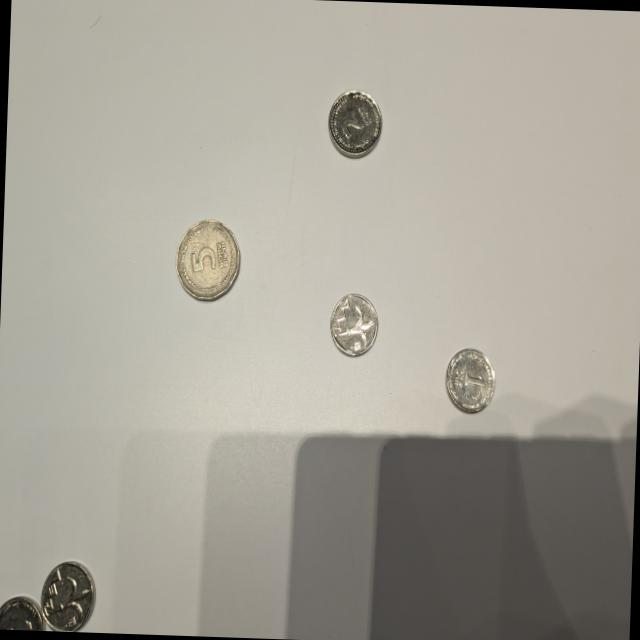1-shekel: (41, 558, 96, 631), (441, 346, 498, 416), (330, 290, 380, 356)
2-shekel: (327, 86, 387, 160)
5-shekel: (174, 217, 240, 300)
